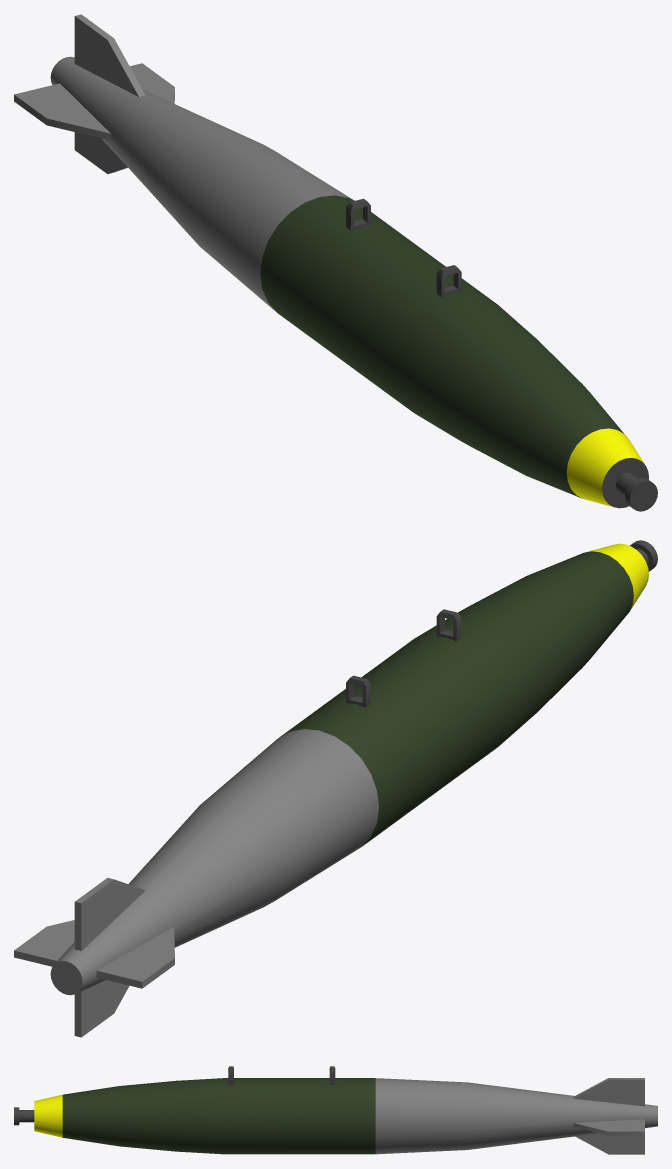
File: MK-83 LDGP.glb
3 renders of one model, top to bottom at view 1: azimuth 30°, elevation 25°; view 2: azimuth 150°, elevation 25°; view 3: azimuth 270°, elevation 25°, orthographic. The views are drawn at different scales.
Parts seen in each view (by area): view 1: Mk-83 Standard Tail; view 2: Mk-83 Standard Tail; view 3: Mk-83 Standard Tail.
Boxes of the visible parts, box(x1,y1,x2,y2) form: Mk-83 Standard Tail: box(14, 14, 657, 511); Mk-83 Standard Tail: box(14, 540, 657, 1037); Mk-83 Standard Tail: box(14, 1066, 657, 1154).
Size of the model in its own units: 0.388 by 0.4422 by 3.02.
Materials: 1 (1 with a texture image).
